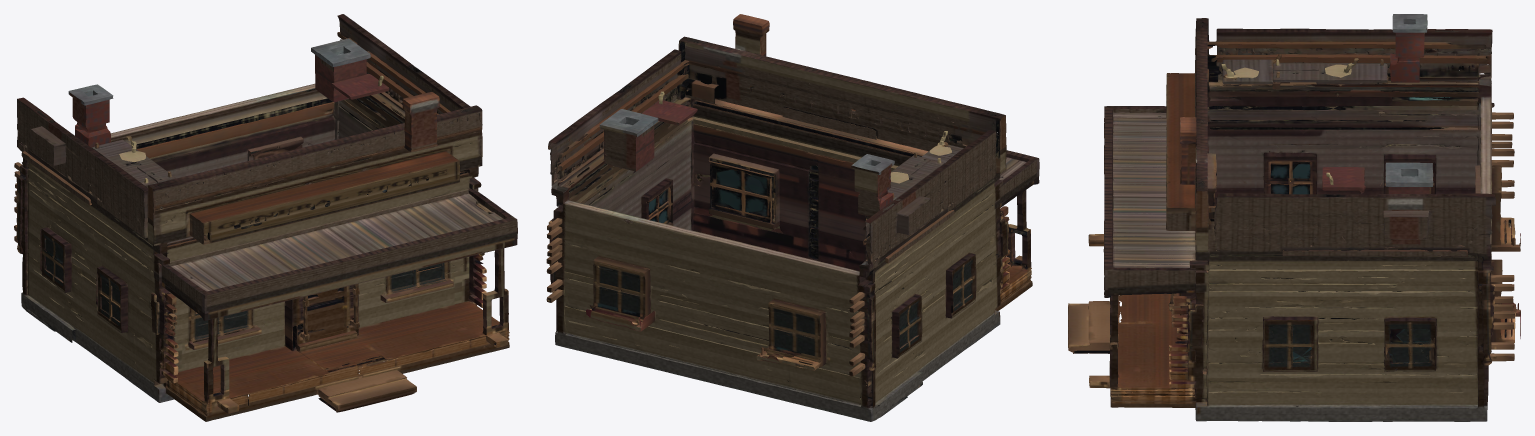
File: scene-0-objects-0-glbData-2cd1f591b56c.glb
3 renders of one model, left to right at view 1: azimuth 30°, elevation 25°; view 2: azimuth 150°, elevation 25°; view 3: azimuth 270°, elevation 25°, orthographic. The views are drawn at different scales.
Visible parts, largest first — view 1: General_Store_Optimized; view 2: General_Store_Optimized; view 3: General_Store_Optimized.
Boxes of the visible parts, left/top/right/bottom form: General_Store_Optimized: left=14, top=14, right=517, bottom=421; General_Store_Optimized: left=546, top=14, right=1039, bottom=421; General_Store_Optimized: left=1068, top=14, right=1520, bottom=421.
Bounding box in the file's own units: 9 × 6 × 9.29.
1 material, 1 textured.
